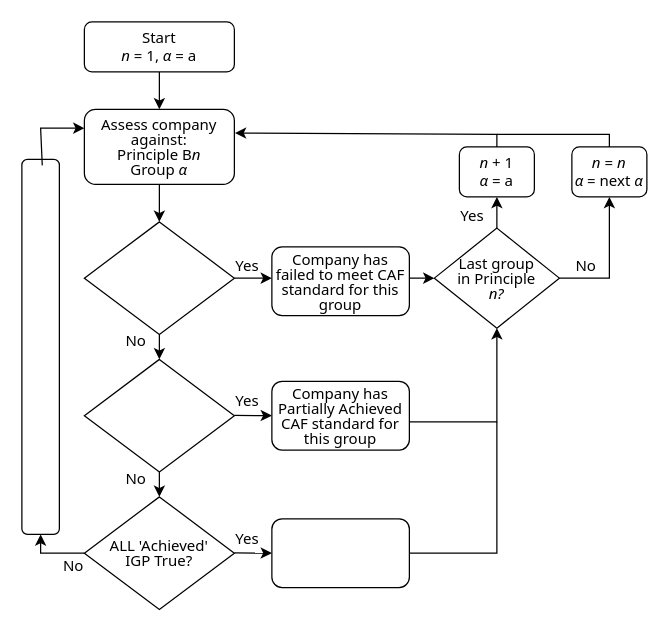
The diagram is 669 pixels wide and 631 high, and some of its shapes have lost their labels. Here are the shapes that lost their labels. From the top down, the centre of each, then its label:
the point at 158,277: Are ANY 'Not Achieved' IGP True?
the point at 40,346: Perform re-assessment as it is not possible to fail all
the point at 158,415: ALL 'Partially Achieved' IGP True?
the point at 340,553: Company has Achieved CAF standard for this group
